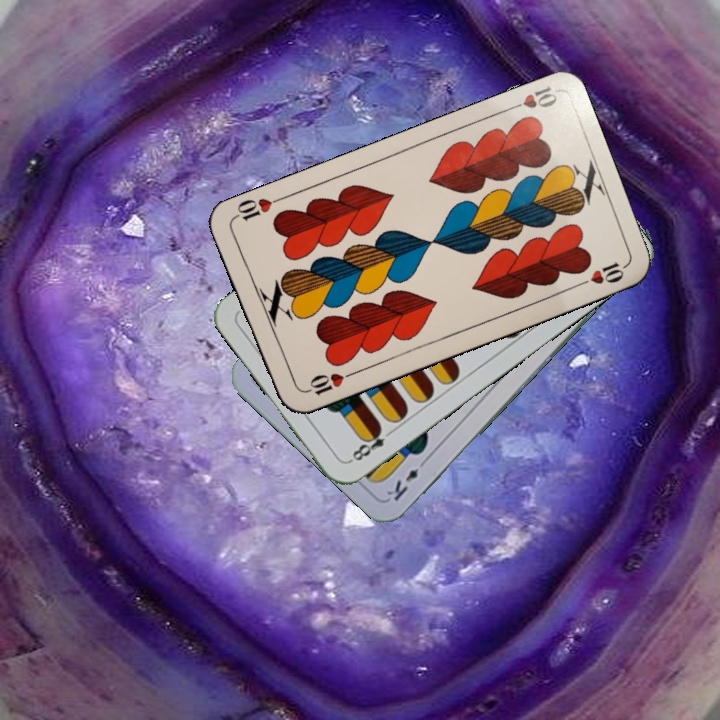E8: (345, 422, 397, 465)
EK: (382, 454, 431, 504)
H10: (502, 82, 560, 114), (300, 367, 357, 398)
